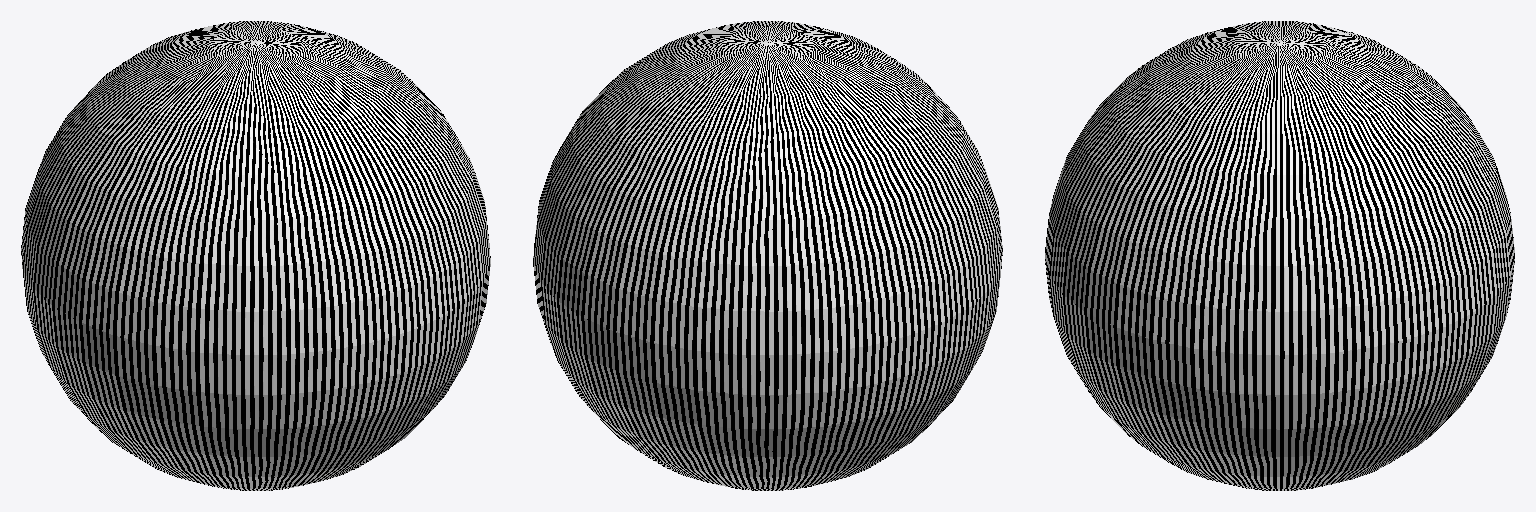
3 views of the same model, side by side, from view 1: azimuth 30°, elevation 25°; view 2: azimuth 150°, elevation 25°; view 3: azimuth 270°, elevation 25° (orthographic).
Parts seen in each view (by area): view 1: Sphere; view 2: Sphere; view 3: Sphere.
Boxes of the visible parts, box(x1,y1,x2,y2) form: Sphere: box(21, 21, 490, 490); Sphere: box(533, 21, 1002, 490); Sphere: box(1045, 21, 1514, 490).
Size of the model in its own units: 4 by 4 by 4.
Materials: 1 (1 with a texture image).